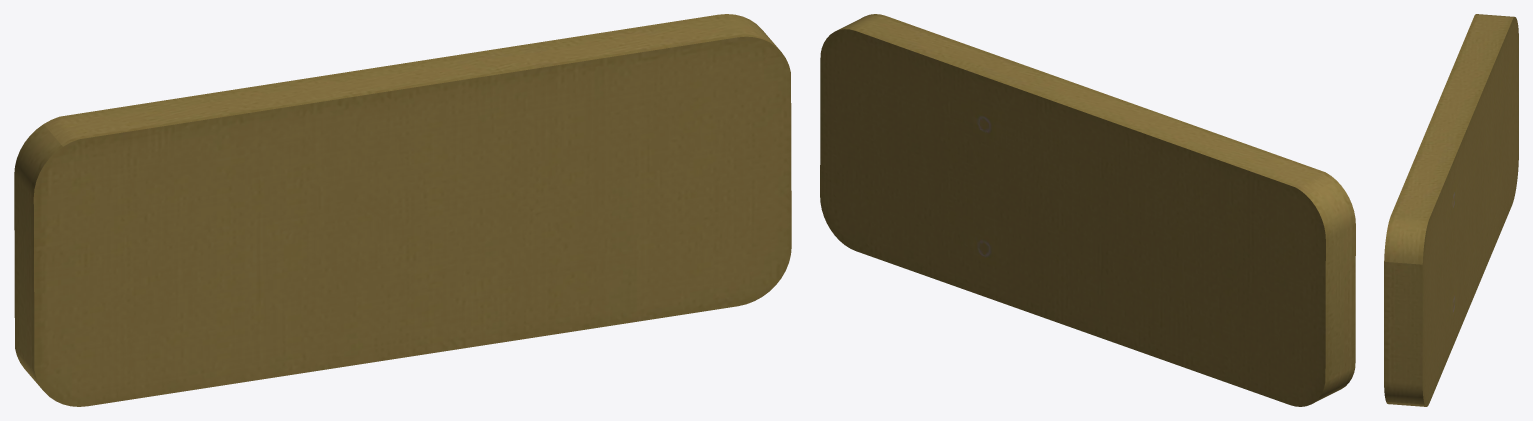
Rendered from backrest__back_cushion.glb.
3 views of the same model, side by side, from view 1: azimuth 30°, elevation 25°; view 2: azimuth 150°, elevation 25°; view 3: azimuth 270°, elevation 25° (orthographic). The views are drawn at different scales.
Parts seen in each view (by area): view 1: world; view 2: world; view 3: world.
Part boxes in pixels (left/top/right/bottom): world: left=14, top=14, right=791, bottom=406; world: left=820, top=14, right=1355, bottom=406; world: left=1384, top=14, right=1518, bottom=406.
Bounding box in the file's own units: 1.06 × 0.39 × 0.2579.
1 material, 1 textured.
